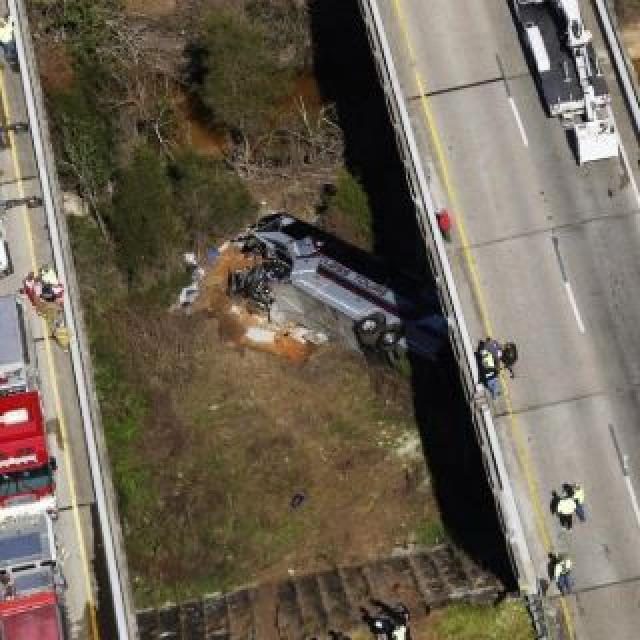traffic_incident: (220, 196, 452, 416)
